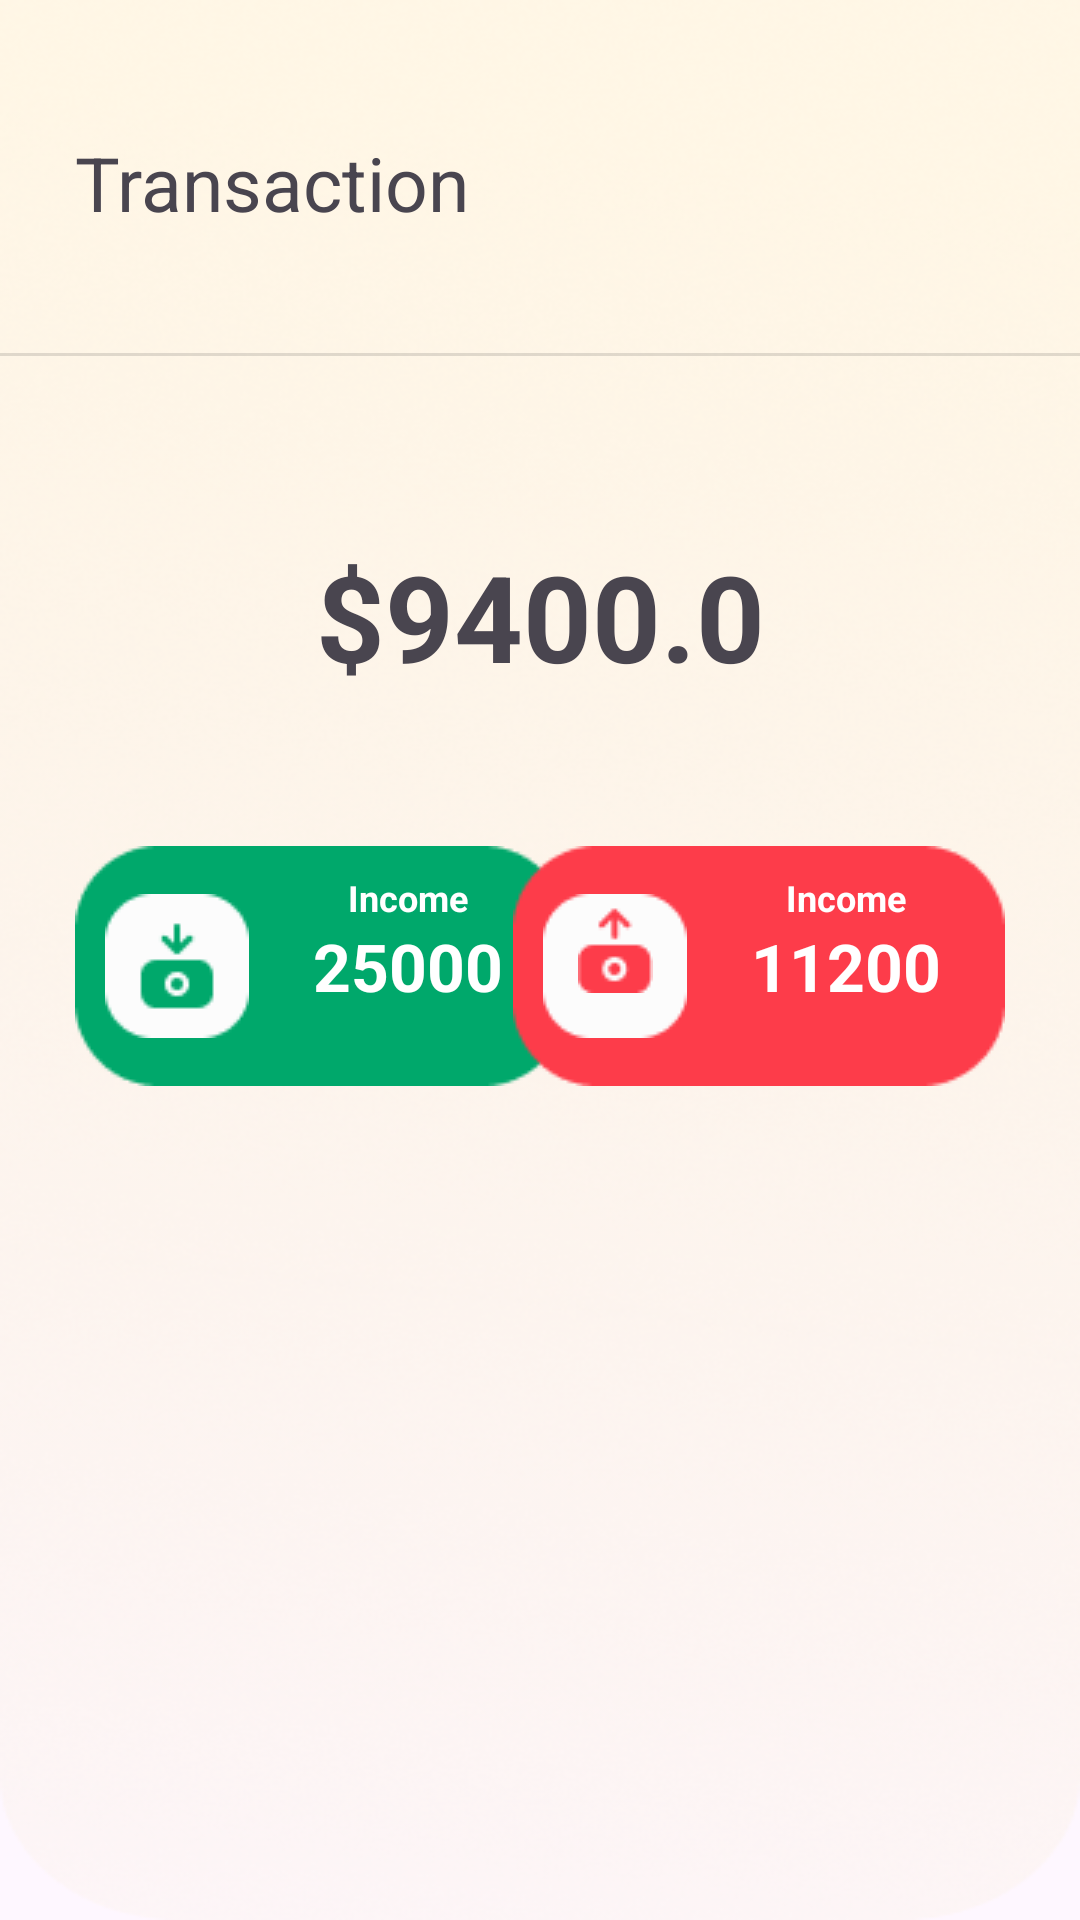

Where to tap for icons on this 1080px x 1920px app screen, as (x=x, y=y):
expense: (x=615, y=950)
